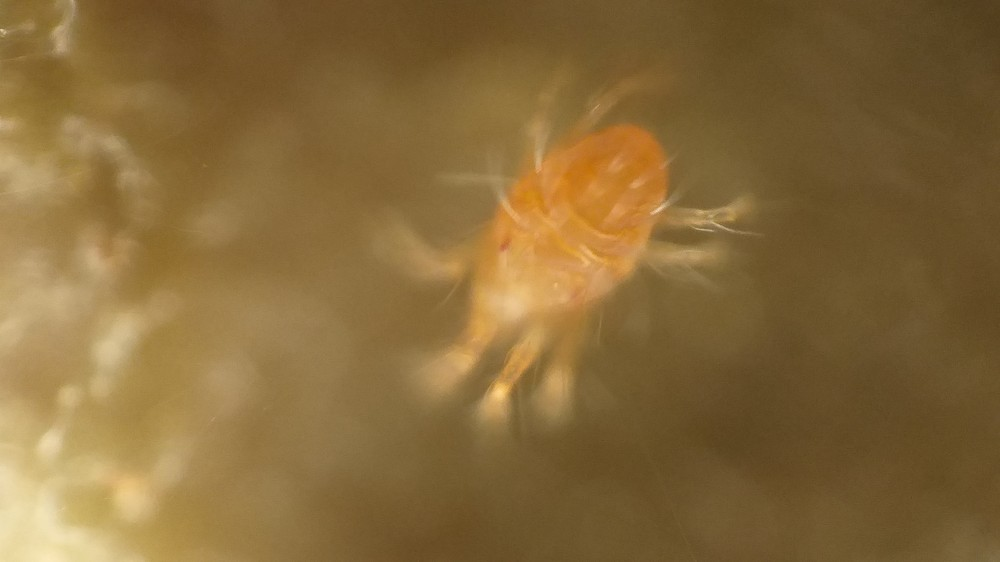Aracnido Rojo: (357, 48, 782, 445)
